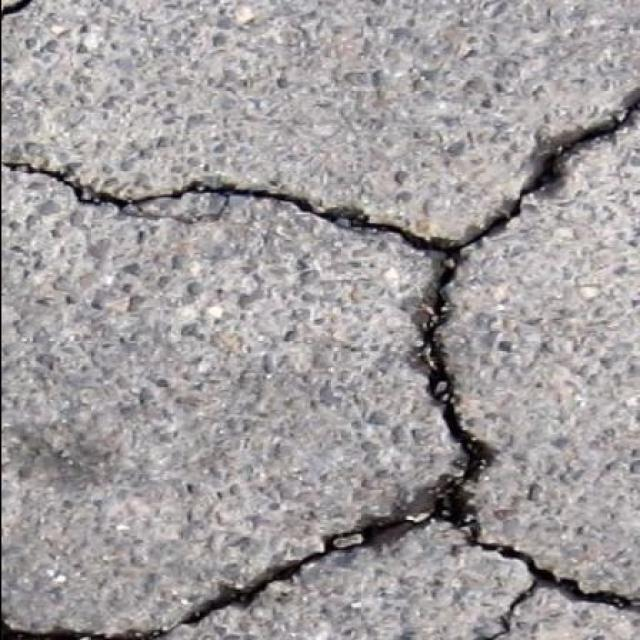Crack: (1, 86, 640, 640)
